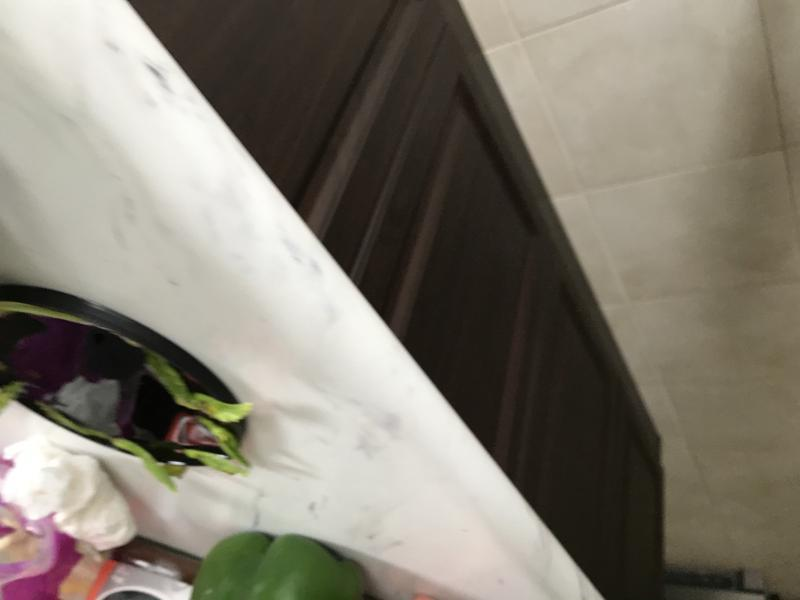green_pepper: (181, 517, 376, 600)
